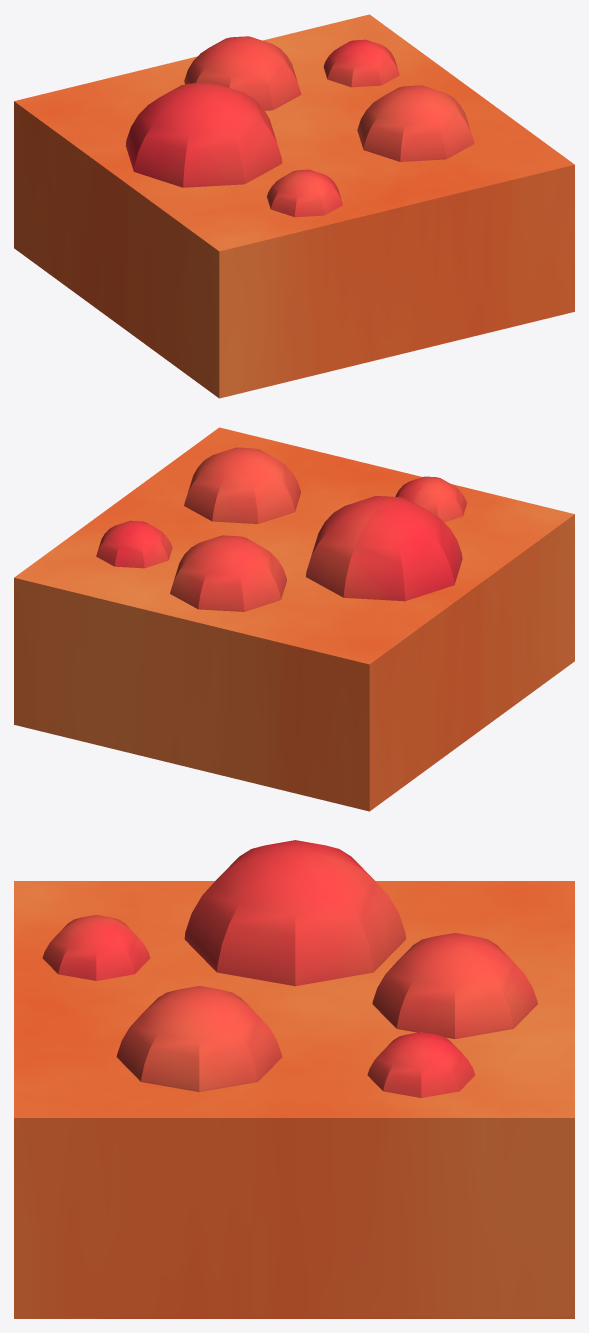
The model's file is MeltFloor.obj.
The picture shows the model from 3 angles, top to bottom: view 1: azimuth 30°, elevation 25°; view 2: azimuth 150°, elevation 25°; view 3: azimuth 270°, elevation 25°; orthographic projection. The views are drawn at different scales.
Parts seen in each view (by area): view 1: Cube, 球.004, 球.001, 球.005, 球.002, 球.003; view 2: Cube, 球.004, 球.005, 球.001, 球.003, 球.002; view 3: Cube, 球.004, 球.001, 球.005, 球.002, 球.003.
Part boxes in pixels (bbox=[...]): Cube: bbox=[14, 14, 574, 398]; 球.004: bbox=[125, 82, 282, 187]; 球.001: bbox=[357, 85, 474, 161]; 球.005: bbox=[184, 36, 301, 110]; 球.002: bbox=[267, 169, 343, 217]; 球.003: bbox=[323, 39, 399, 87]; Cube: bbox=[14, 427, 574, 811]; 球.004: bbox=[306, 496, 462, 601]; 球.005: bbox=[170, 535, 286, 611]; 球.001: bbox=[184, 447, 300, 523]; 球.003: bbox=[96, 520, 172, 568]; 球.002: bbox=[395, 476, 466, 522]; Cube: bbox=[14, 881, 574, 1318]; 球.004: bbox=[184, 840, 405, 986]; 球.001: bbox=[116, 986, 281, 1092]; 球.005: bbox=[372, 933, 537, 1038]; 球.002: bbox=[42, 915, 150, 980]; 球.003: bbox=[367, 1032, 475, 1097].
Size of the model in its own units: 1 by 0.5701 by 1.
1 material, 1 textured.
